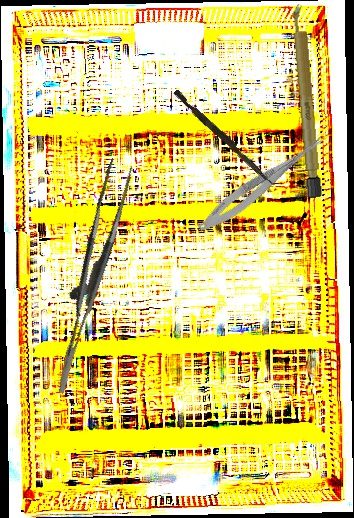Micro Scissor: (193, 122, 334, 240)
Pusher: (171, 89, 277, 186)
Scalpel Handle: (290, 1, 323, 200)
Tissue Forceps: (19, 158, 156, 394)
